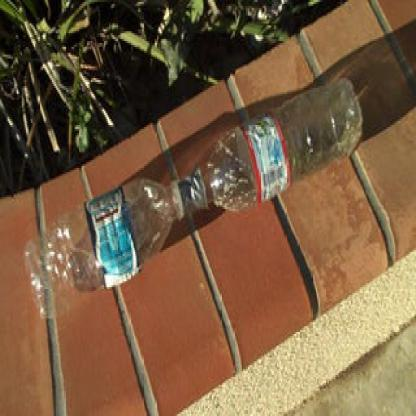bottle: (190, 66, 362, 260), (22, 156, 189, 338)
